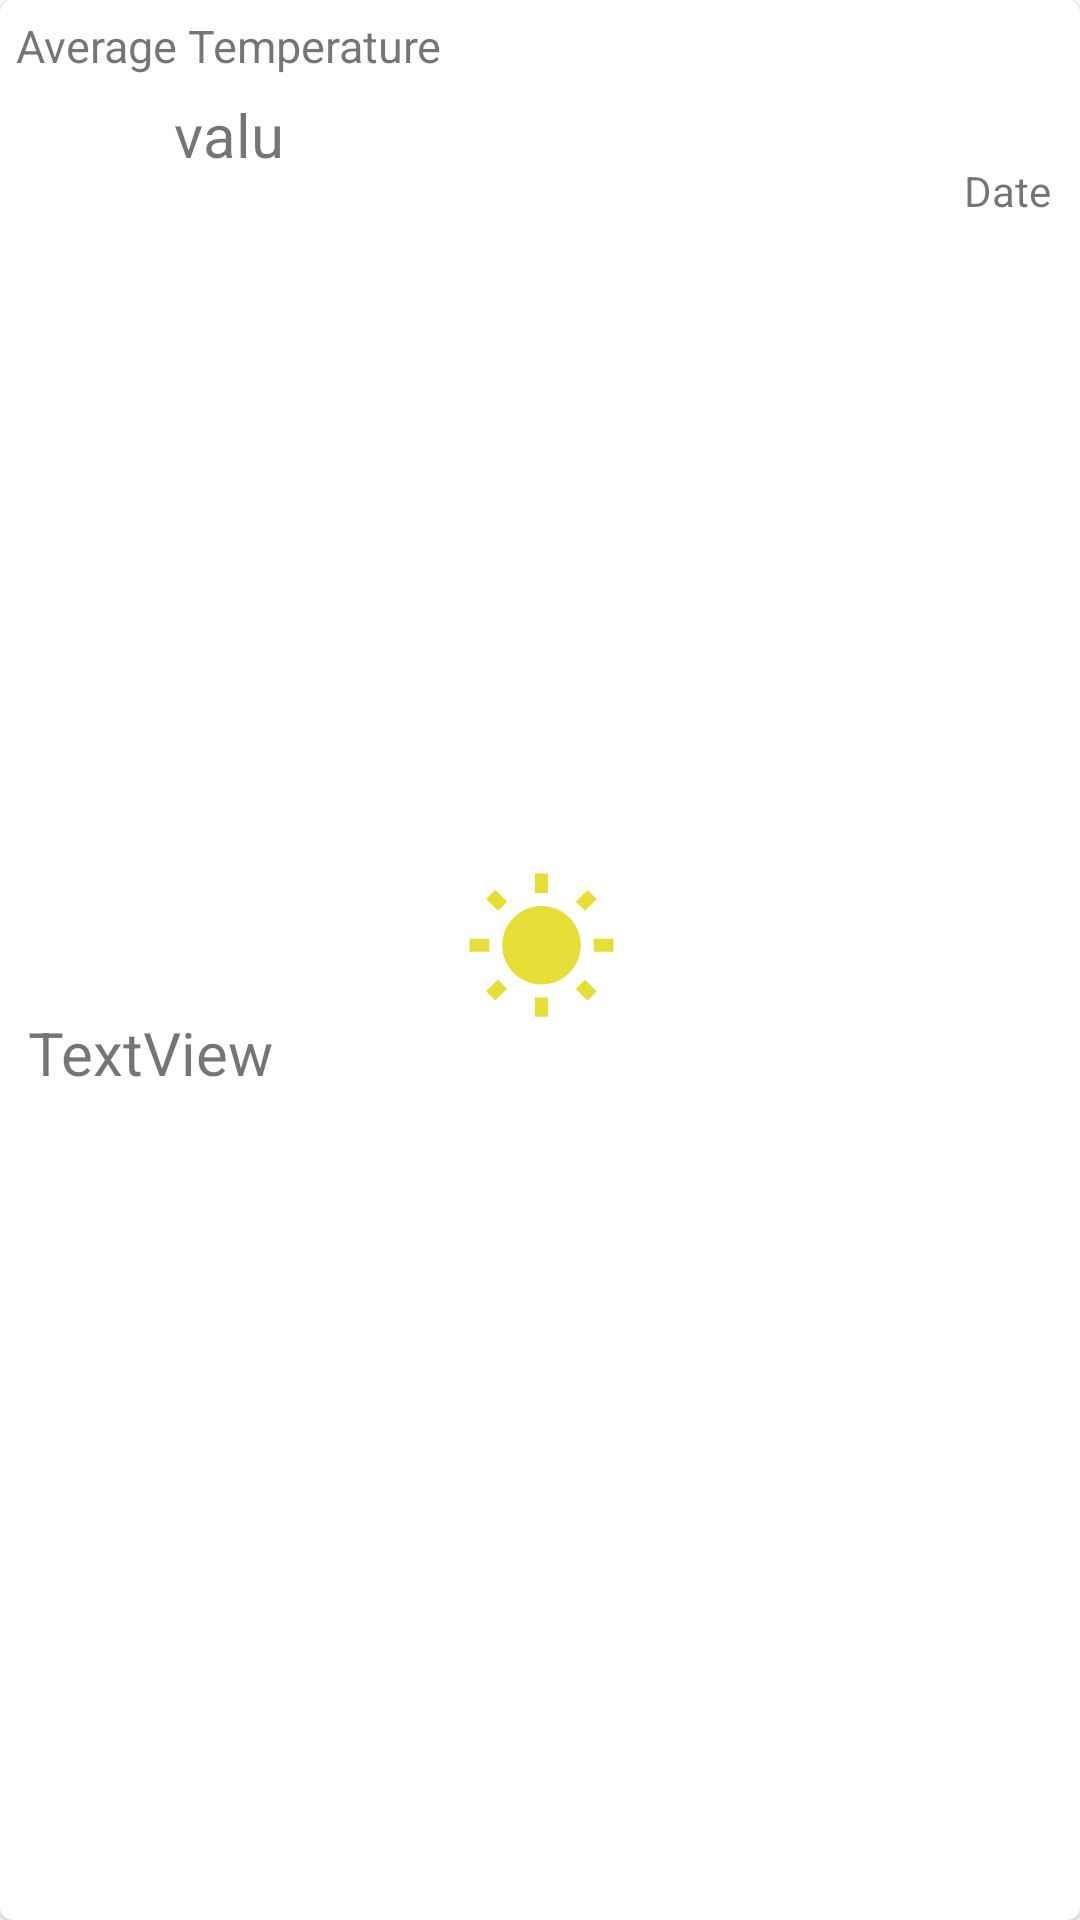

Screen size 1080px x 1920px. Icon name, then its box in pixels as (x1,y1,x2,y2):
sunny: (469,873,614,1017)
